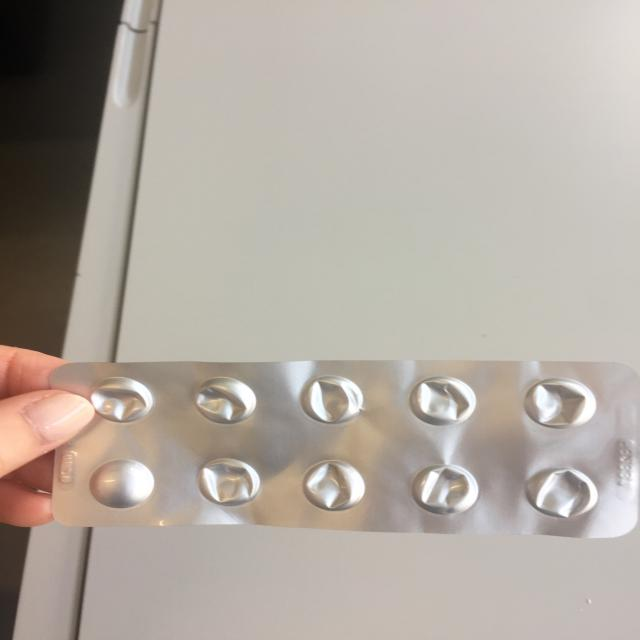Empty: (522, 464, 604, 522), (520, 375, 597, 431), (409, 462, 484, 518), (402, 374, 478, 429), (191, 454, 262, 511), (298, 457, 370, 513), (297, 371, 368, 427), (186, 374, 262, 426), (86, 375, 157, 426)
Pill: (85, 456, 158, 510)
